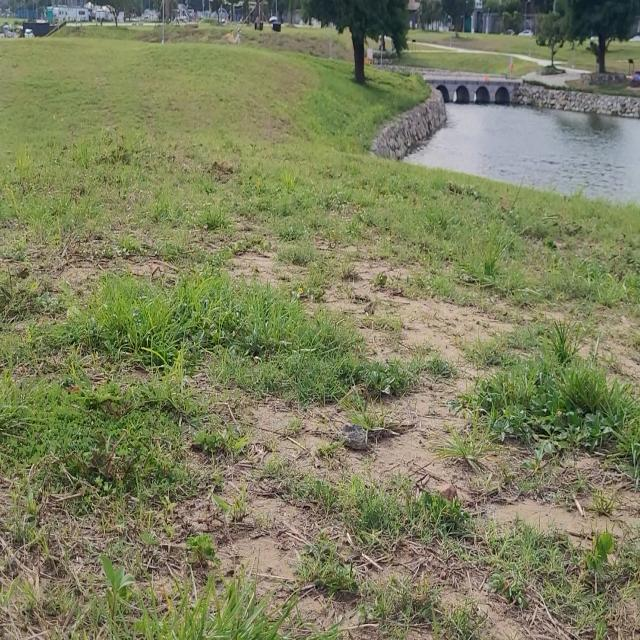grass: (0, 31, 640, 639)
